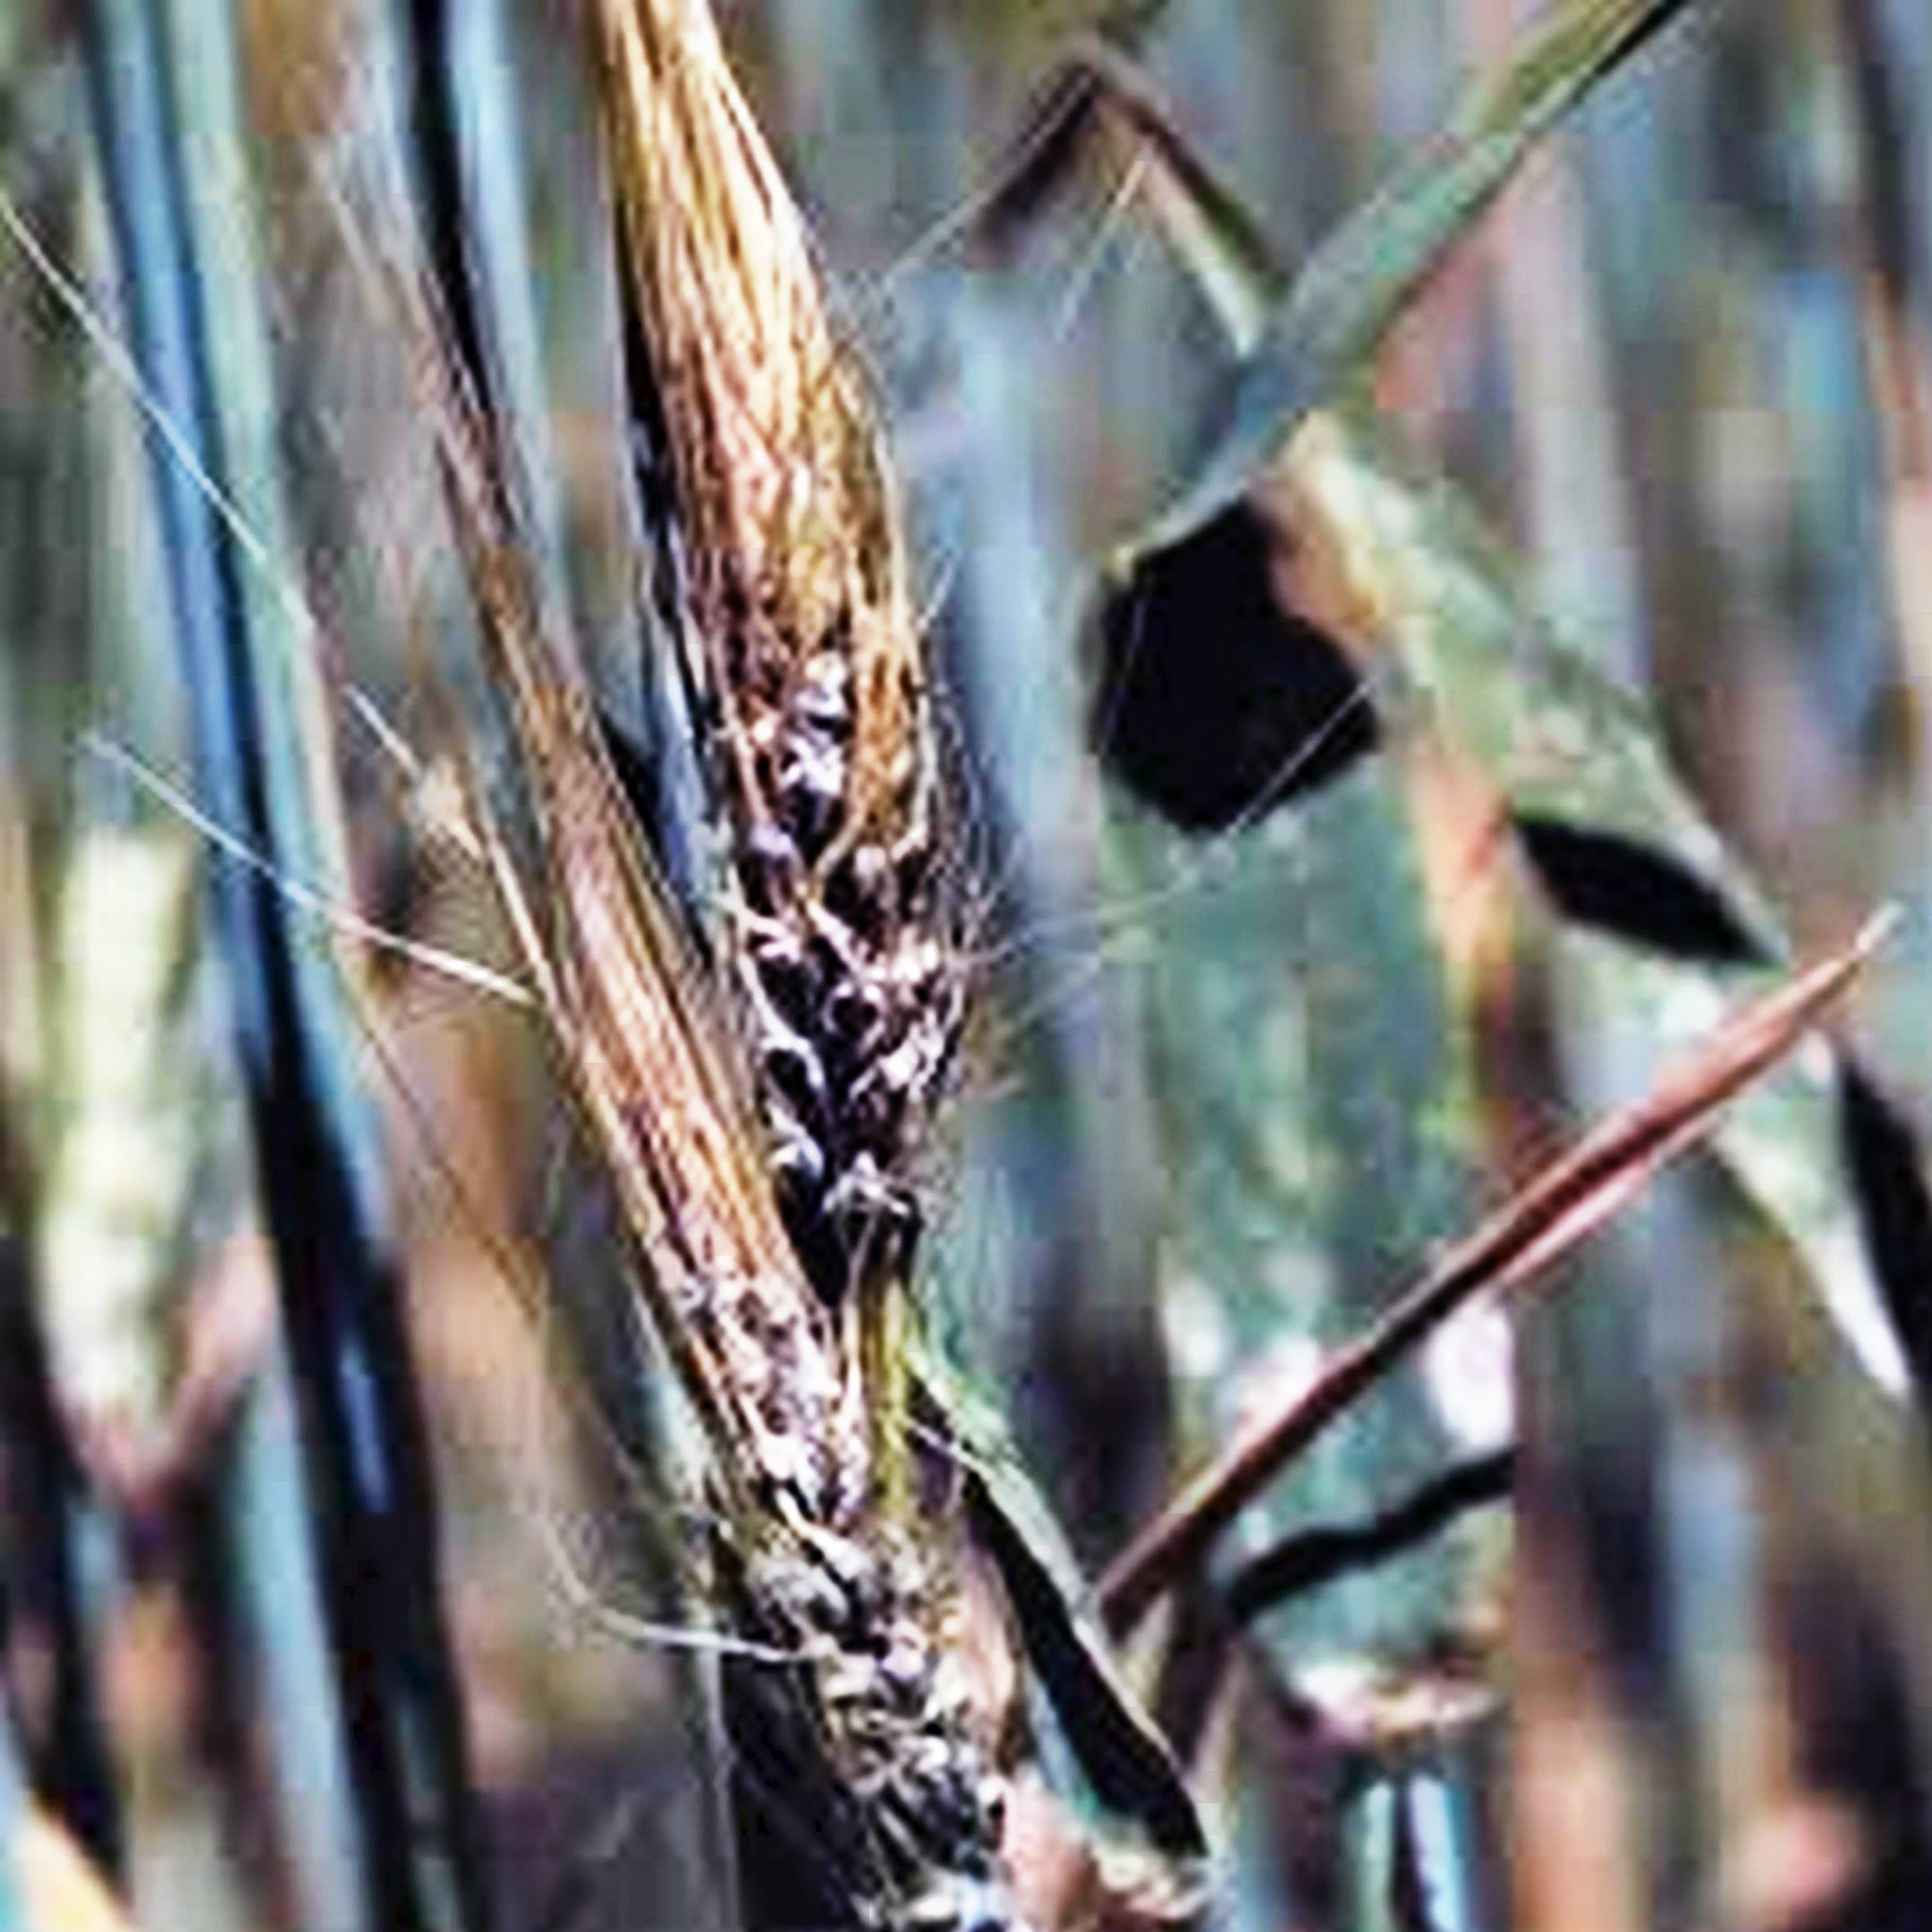Wheat Loose Smut: (642, 517, 1000, 1276), (686, 1320, 1028, 1875)
